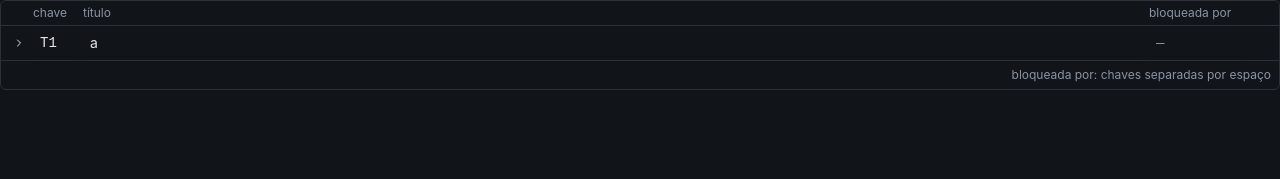
it: read only: chevrons open, no + tarefa, no remove, inputs read only (#536)
Click the button named "corpo de T1" at (19, 43), box [7, 31, 31, 55]
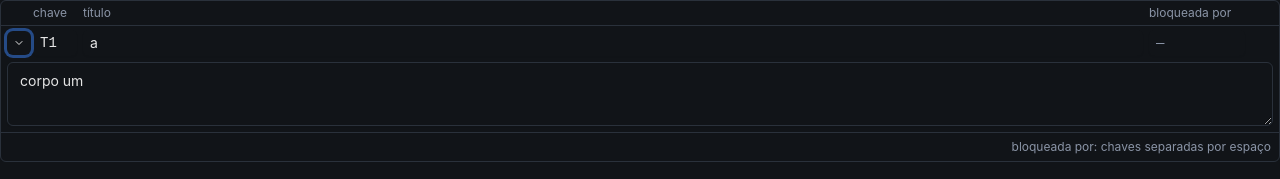
Result: the text box named "corpo de T1" holds "corpo um" at [7, 62, 1273, 126]
